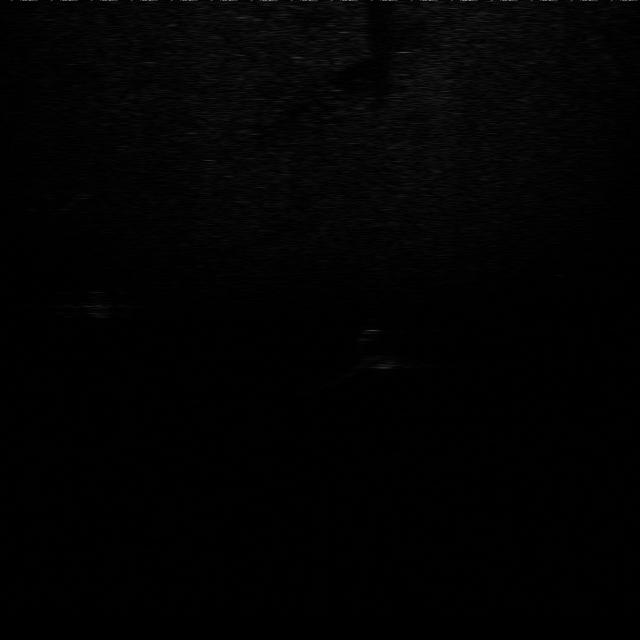circle cage: (65, 285, 133, 323)
tyre: (342, 322, 418, 372)
